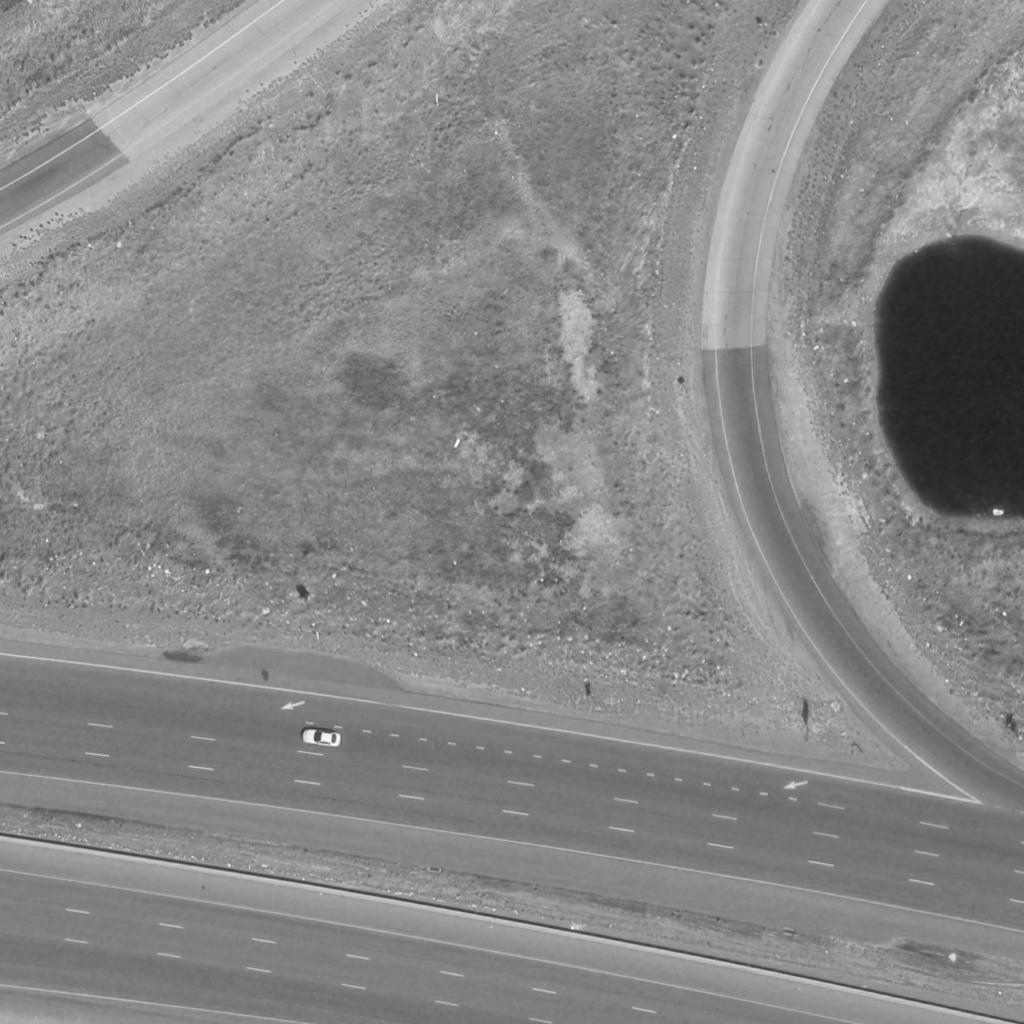vehicle: (299, 729, 347, 747)
